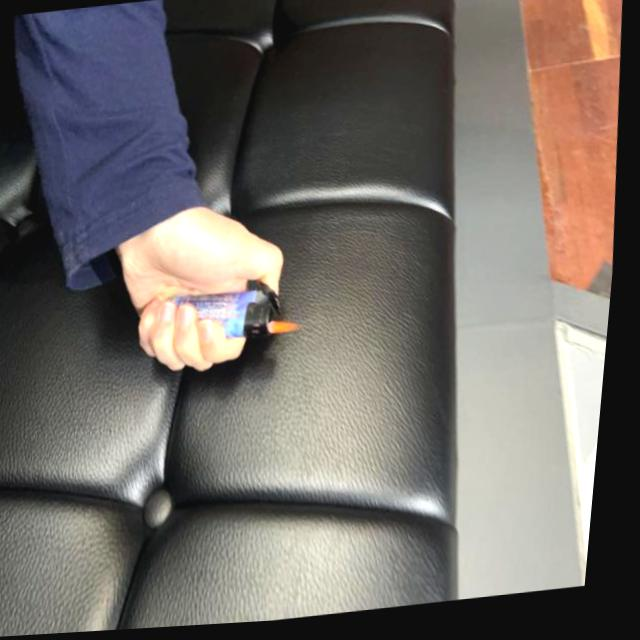helmet: (270, 321, 309, 341)
